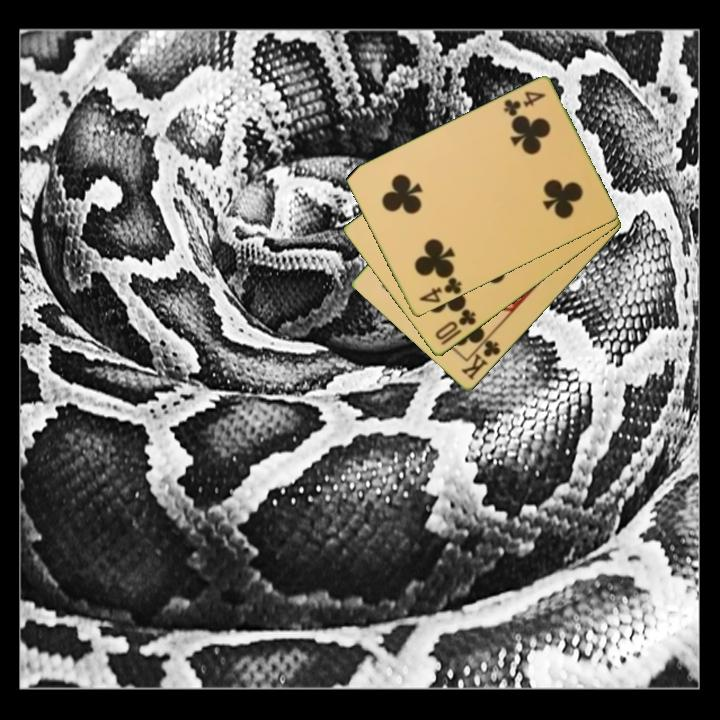10c: (432, 306, 479, 348)
4c: (416, 274, 465, 306), (500, 88, 549, 120)
Kc: (457, 331, 503, 383)
